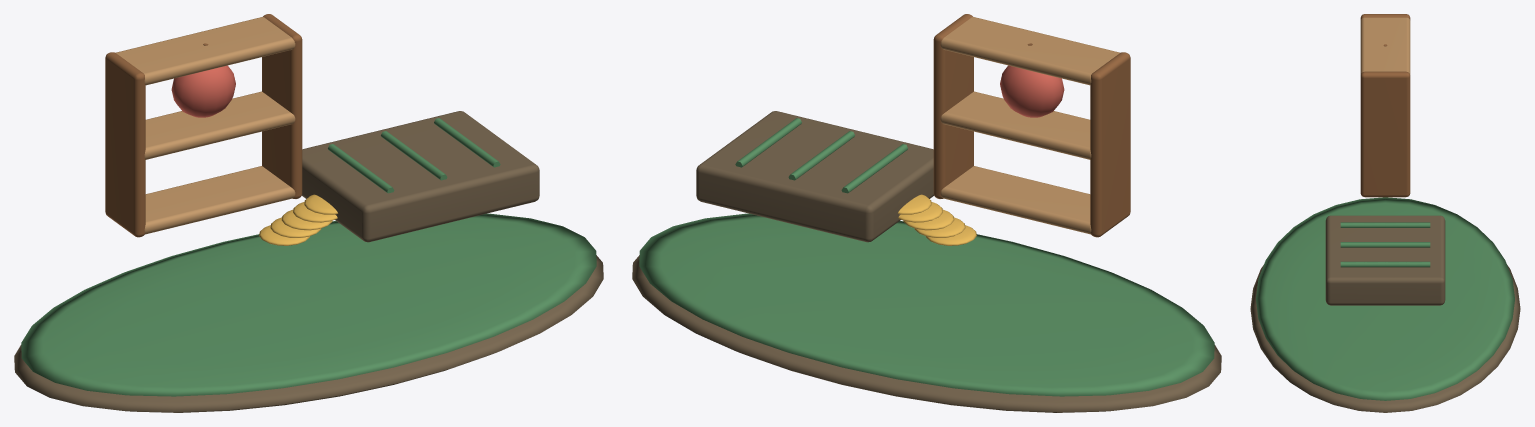
File: complete-second-market-ground.glb
3 views of the same model, side by side, from view 1: azimuth 30°, elevation 25°; view 2: azimuth 150°, elevation 25°; view 3: azimuth 270°, elevation 25° (orthographic). The views are drawn at different scales.
Visible parts, largest first — view 1: complete-second-market-ground_surface_01, complete-second-market-ground_surface_00, complete-second-market-ground_surface_02, complete-second-market-ground_surface_03, complete-second-market-ground_surface_04, complete-second-market-ground_surface_06; view 2: complete-second-market-ground_surface_01, complete-second-market-ground_surface_00, complete-second-market-ground_surface_02, complete-second-market-ground_surface_03, complete-second-market-ground_surface_04, complete-second-market-ground_surface_06; view 3: complete-second-market-ground_surface_01, complete-second-market-ground_surface_00, complete-second-market-ground_surface_03, complete-second-market-ground_surface_02.
Boxes of the visible parts, left/top/right/bottom form: complete-second-market-ground_surface_01: left=21, top=118, right=596, bottom=396; complete-second-market-ground_surface_00: left=14, top=111, right=603, bottom=412; complete-second-market-ground_surface_02: left=116, top=17, right=295, bottom=234; complete-second-market-ground_surface_03: left=105, top=14, right=302, bottom=237; complete-second-market-ground_surface_04: left=171, top=65, right=235, bottom=117; complete-second-market-ground_surface_06: left=259, top=194, right=337, bottom=245; complete-second-market-ground_surface_01: left=639, top=118, right=1214, bottom=396; complete-second-market-ground_surface_00: left=632, top=111, right=1221, bottom=412; complete-second-market-ground_surface_02: left=940, top=17, right=1119, bottom=234; complete-second-market-ground_surface_03: left=933, top=14, right=1130, bottom=237; complete-second-market-ground_surface_04: left=1000, top=65, right=1064, bottom=117; complete-second-market-ground_surface_06: left=898, top=194, right=976, bottom=245; complete-second-market-ground_surface_01: left=1256, top=197, right=1514, bottom=400; complete-second-market-ground_surface_00: left=1250, top=215, right=1520, bottom=412; complete-second-market-ground_surface_03: left=1360, top=14, right=1410, bottom=197; complete-second-market-ground_surface_02: left=1360, top=17, right=1410, bottom=74.
Size of the model in its own units: 4.56 by 2.44 by 2.5.
